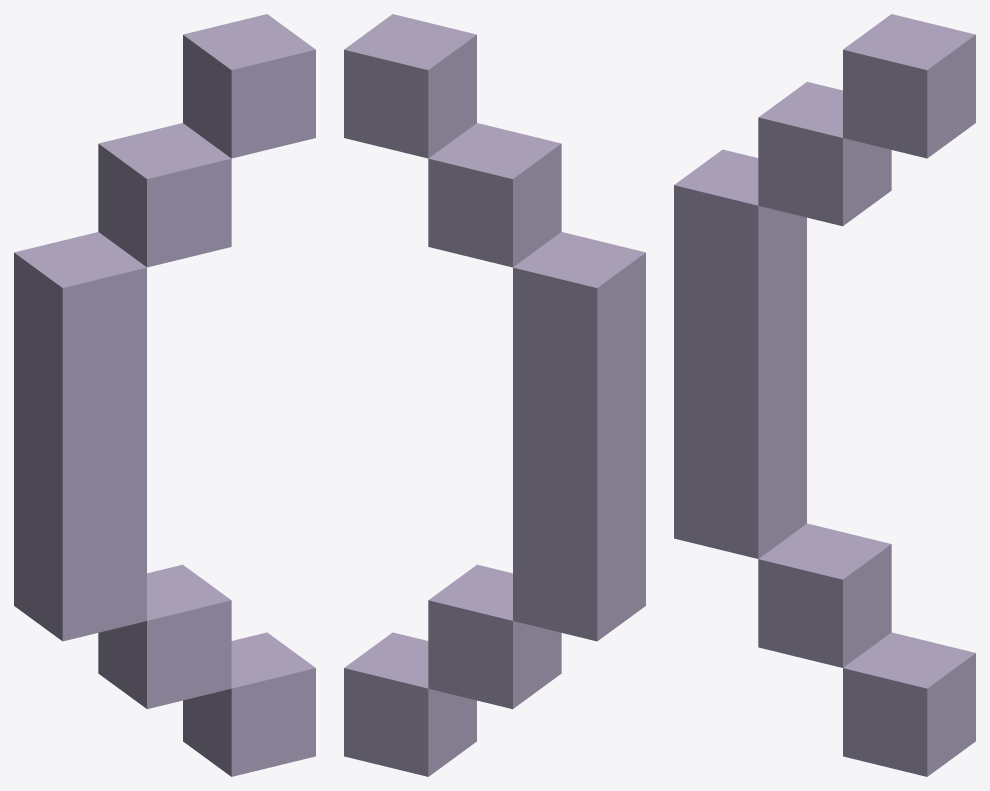
File: Bow-Grey.vox.obj
3 views of the same model, side by side, from view 1: azimuth 30°, elevation 25°; view 2: azimuth 150°, elevation 25°; view 3: azimuth 330°, elevation 25° (orthographic).
Bounding box in the file's own units: 0.3 × 0.8 × 0.1.
Materials: 1 (1 with a texture image).
